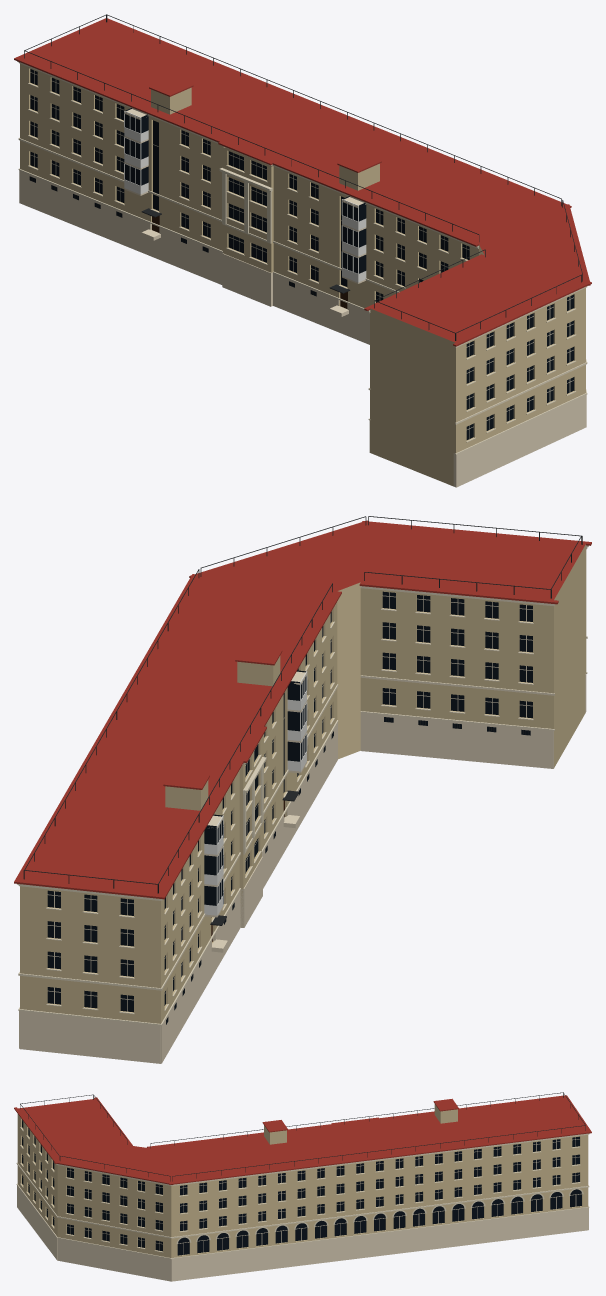
3 views of the same model, one above another, from view 1: azimuth 30°, elevation 25°; view 2: azimuth 150°, elevation 25°; view 3: azimuth 270°, elevation 25° (orthographic). The views are drawn at different scales.
Visible parts, largest first — view 1: bm52_wall, bm52_roof, bm52_stone, bm52_glass, bm52_trim, bm52_metal, bm52_wall2; view 2: bm52_roof, bm52_wall, bm52_stone, bm52_glass, bm52_trim, bm52_metal, bm52_wall2; view 3: bm52_wall, bm52_roof, bm52_stone, bm52_glass, bm52_trim, bm52_metal.
Boxes of the visible parts, x1=… form: bm52_wall: x1=20, y1=63, x2=585, y2=486; bm52_roof: x1=14, y1=18, x2=591, y2=346; bm52_stone: x1=19, y1=109, x2=586, y2=487; bm52_glass: x1=29, y1=69, x2=573, y2=439; bm52_trim: x1=17, y1=61, x2=588, y2=454; bm52_metal: x1=24, y1=14, x2=582, y2=340; bm52_wall2: x1=124, y1=111, x2=366, y2=282; bm52_roof: x1=14, y1=520, x2=591, y2=899; bm52_wall: x1=20, y1=544, x2=586, y2=1023; bm52_stone: x1=19, y1=671, x2=586, y2=1063; bm52_glass: x1=47, y1=591, x2=532, y2=1024; bm52_trim: x1=17, y1=545, x2=588, y2=1025; bm52_metal: x1=23, y1=516, x2=582, y2=1023; bm52_wall2: x1=204, y1=671, x2=307, y2=915; bm52_wall: x1=17, y1=1104, x2=588, y2=1257; bm52_roof: x1=14, y1=1095, x2=591, y2=1184; bm52_stone: x1=17, y1=1185, x2=588, y2=1281; bm52_glass: x1=22, y1=1120, x2=581, y2=1255; bm52_trim: x1=16, y1=1120, x2=589, y2=1259; bm52_metal: x1=20, y1=1092, x2=585, y2=1181.
Size of the model in its own units: 33.15 by 19.5 by 90.92.
